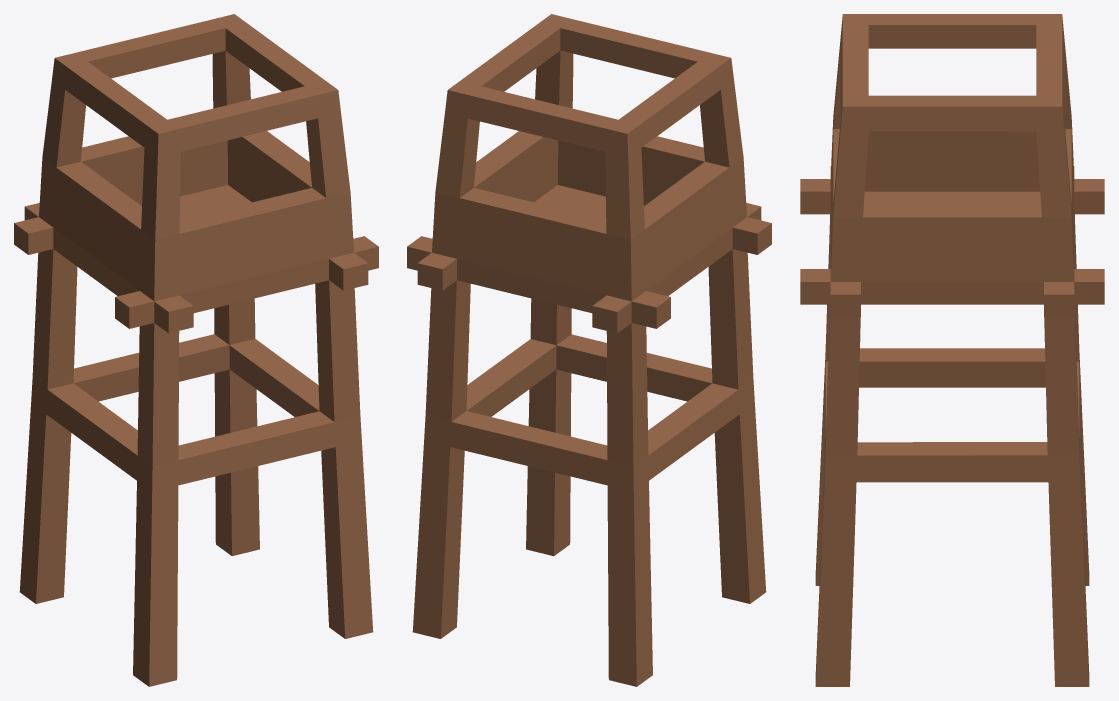
File: Watchtower.glb
The picture shows the model from 3 angles, left to right: view 1: azimuth 30°, elevation 25°; view 2: azimuth 150°, elevation 25°; view 3: azimuth 270°, elevation 25°; orthographic projection. The views are drawn at different scales.
Visible parts, largest first — view 1: Watchtower; view 2: Watchtower; view 3: Watchtower.
Part boxes in pixels (x1=…): Watchtower: x1=14, y1=14, x2=378, y2=686; Watchtower: x1=407, y1=14, x2=771, y2=686; Watchtower: x1=800, y1=14, x2=1104, y2=686.
Size of the model in its own units: 1.49 by 3.08 by 1.49.
